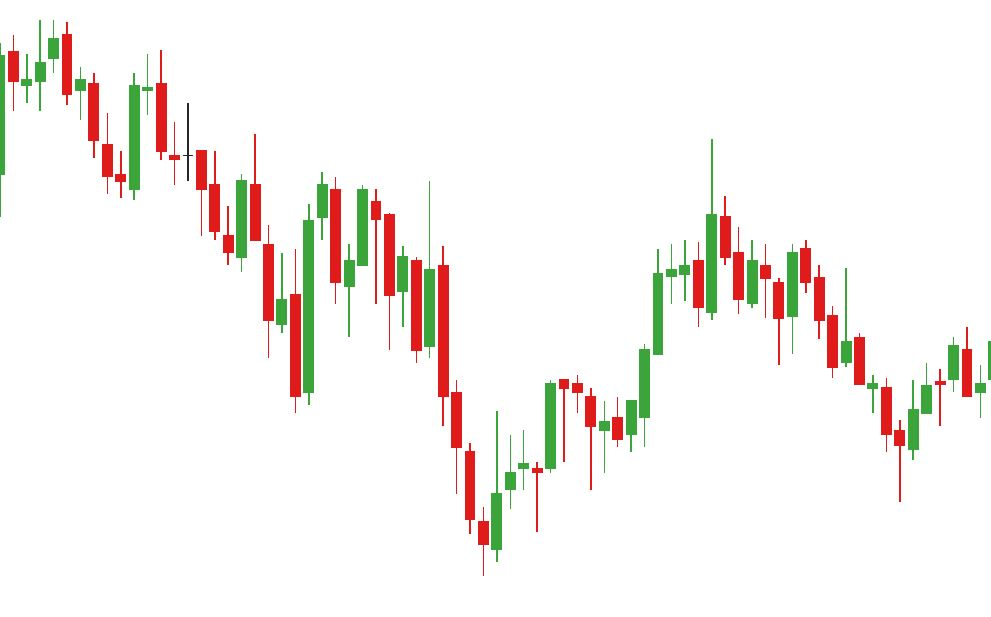sell: (76, 43, 169, 168)
